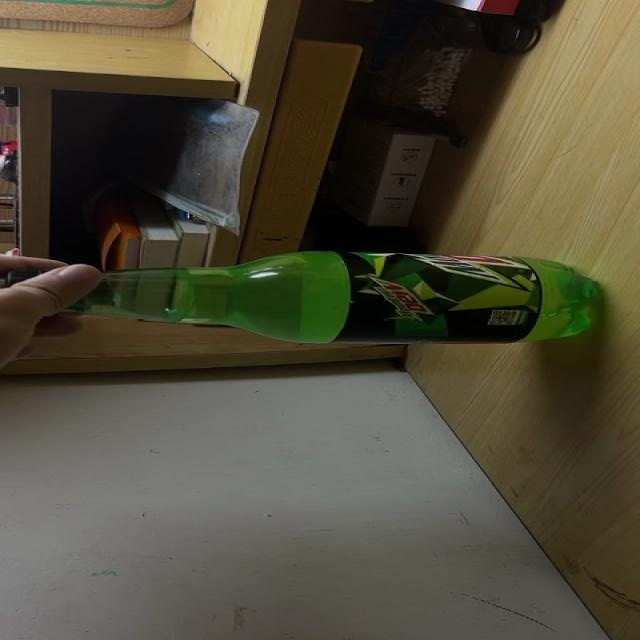Mountain-Dew: (36, 251, 600, 343)
